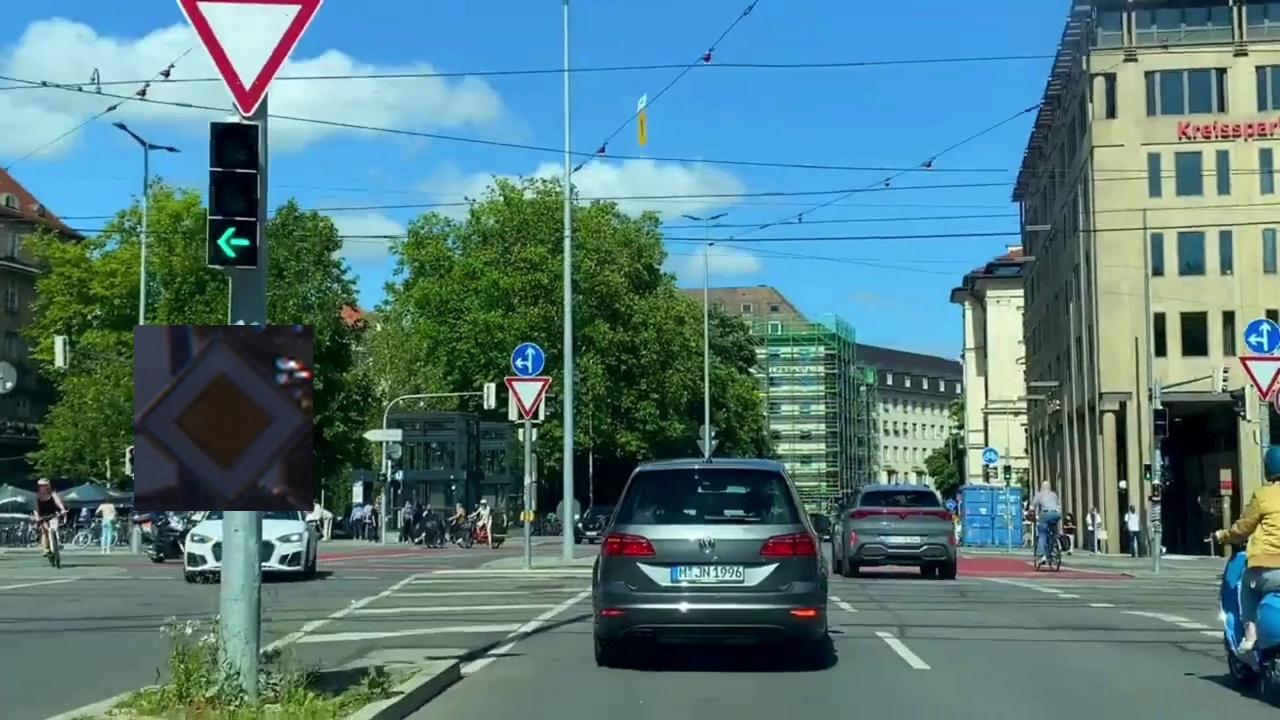Priority road: (134, 325, 313, 511)
